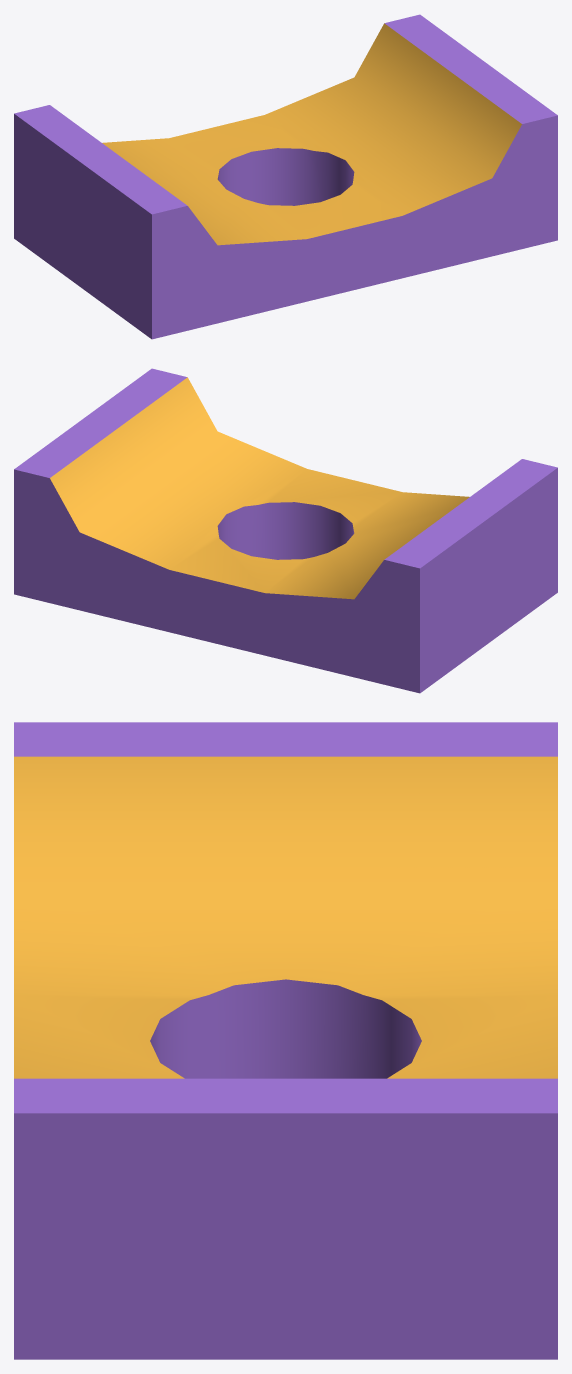
The model's file is straight-wide-hole.glb.
3 renders of one model, top to bottom at view 1: azimuth 30°, elevation 25°; view 2: azimuth 150°, elevation 25°; view 3: azimuth 270°, elevation 25°, orthographic. The views are drawn at different scales.
Visible parts, largest first — view 1: straight-wide-hole; view 2: straight-wide-hole; view 3: straight-wide-hole.
Boxes of the visible parts, bbox=[...] form: straight-wide-hole: bbox=[14, 14, 557, 339]; straight-wide-hole: bbox=[14, 368, 557, 693]; straight-wide-hole: bbox=[14, 722, 557, 1359].
Bounding box in the file's own units: 1.7 × 0.5 × 1.
Materials: 1 (1 with a texture image).
